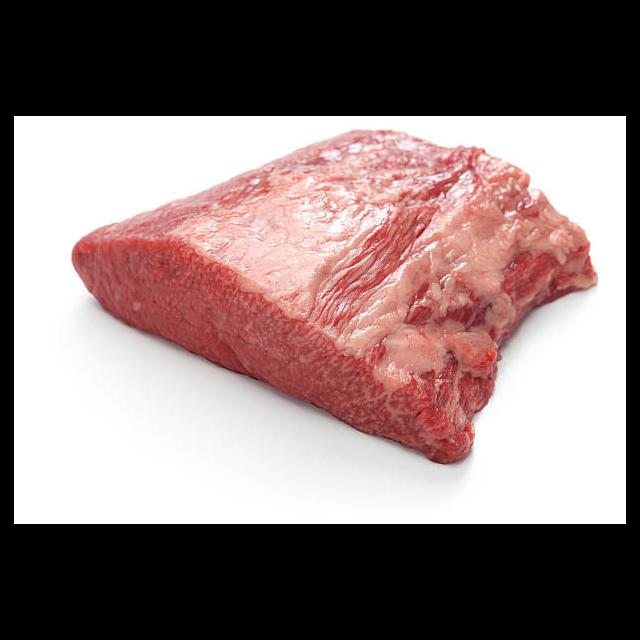beef: (70, 129, 598, 466)
